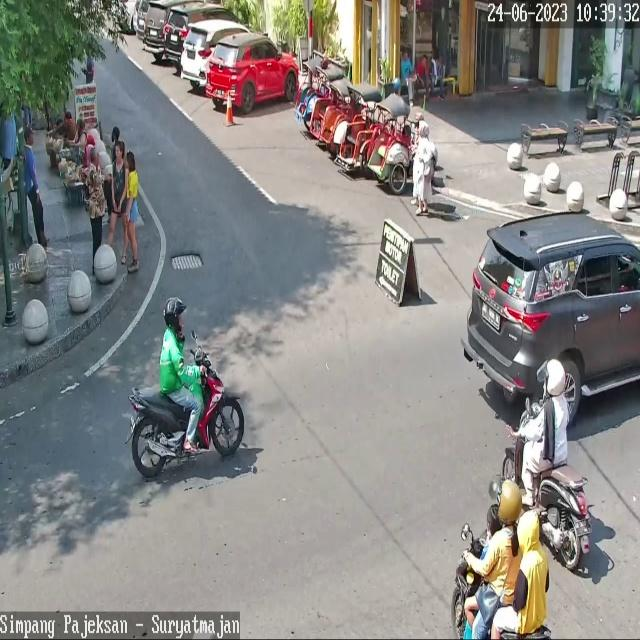bus: (502, 402, 593, 571), (128, 347, 245, 478), (452, 530, 552, 640)
motorcycle: (462, 209, 640, 425), (206, 34, 300, 114), (180, 21, 252, 88), (163, 3, 243, 60), (143, 0, 169, 53)
